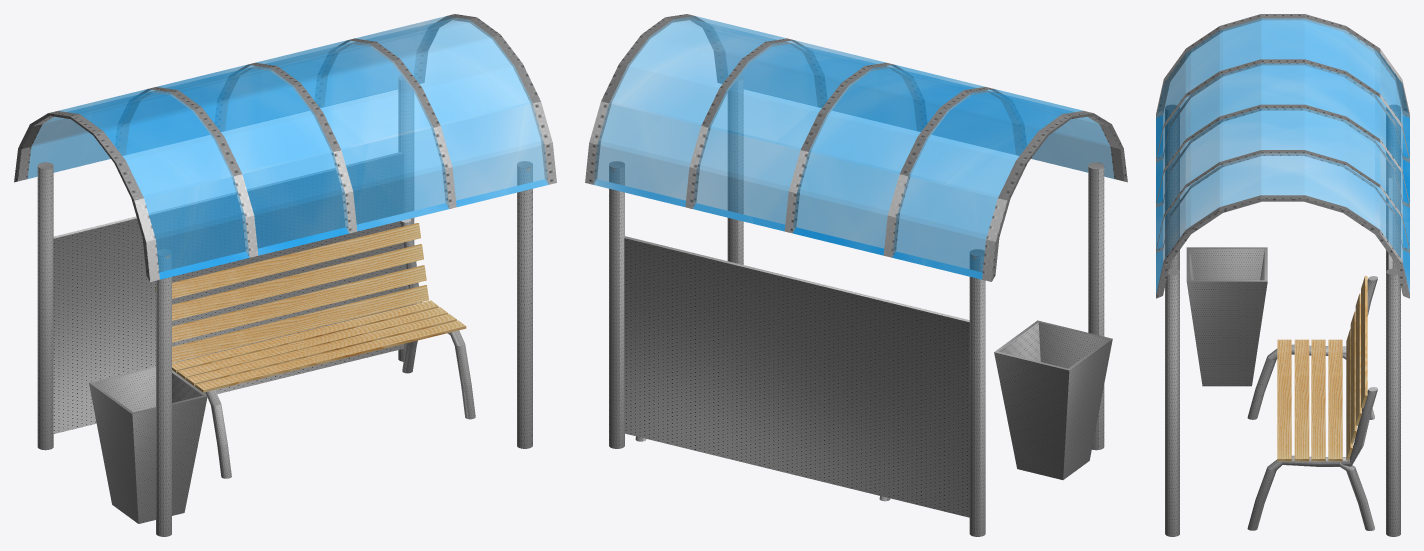
Rendered from BusStop.obj.
The picture shows the model from 3 angles, left to right: view 1: azimuth 30°, elevation 25°; view 2: azimuth 150°, elevation 25°; view 3: azimuth 270°, elevation 25°; orthographic projection. The views are drawn at different scales.
Parts seen in each view (by area): view 1: bus_stop; view 2: bus_stop; view 3: bus_stop.
Boxes of the visible parts, bbox=[...] form: bus_stop: bbox=[14, 14, 556, 536]; bus_stop: bbox=[585, 14, 1127, 536]; bus_stop: bbox=[1156, 14, 1409, 536].
Bounding box in the file's own units: 70.38 × 61.14 × 40.67.
